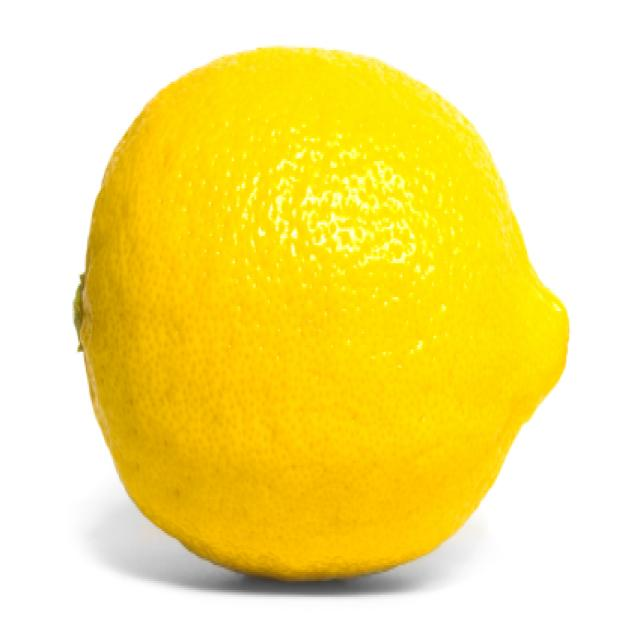lemon: (70, 37, 590, 601)
